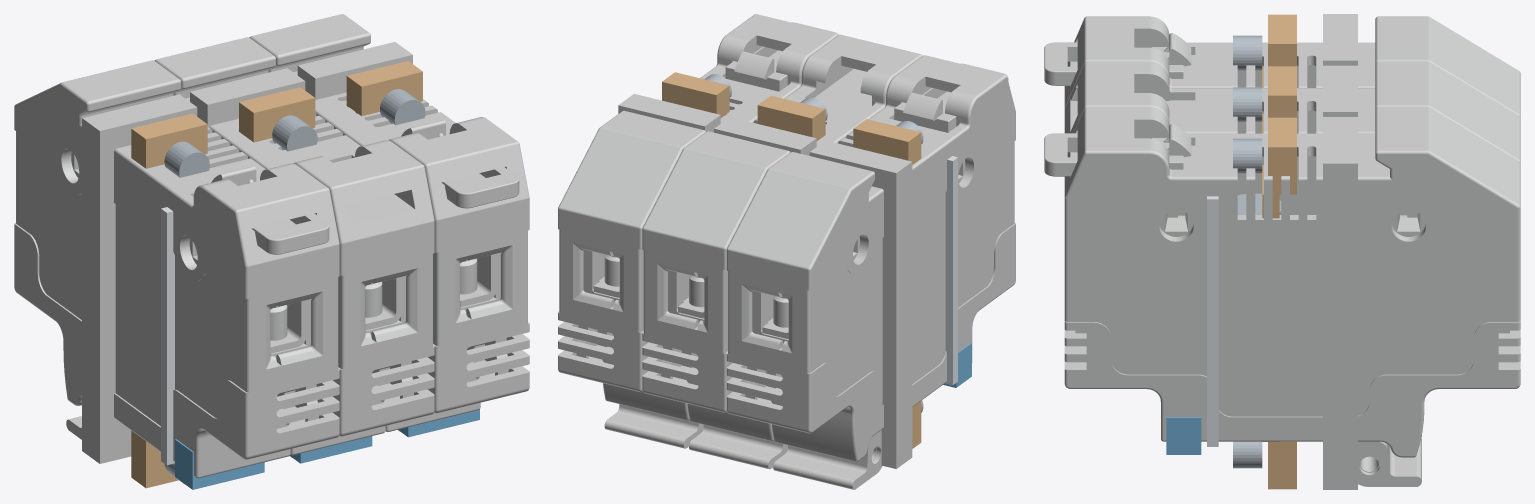
The picture shows the model from 3 angles, left to right: view 1: azimuth 30°, elevation 25°; view 2: azimuth 150°, elevation 25°; view 3: azimuth 270°, elevation 25°; orthographic projection. The views are drawn at different scales.
Parts seen in each view (by area): view 1: factory_034, factory_017, factory_032, factory_001, housing_000, factory_019, factory_003, carrier_001, housing_013, housing_026, terminals_024, terminals_037 (+16 smaller); view 2: factory_034, factory_017, factory_032, factory_001, housing_000, factory_019, factory_003, factory_033, carrier_001, factory_002, factory_018, terminals_011 (+10 smaller); view 3: factory_001, factory_017, factory_032, housing_026, factory_003, factory_019, factory_034, carrier_027, factory_002, factory_035, factory_004, terminals_037 (+10 smaller).
Boxes of the visible parts, left/top/right/bottom form: factory_034: left=14, top=80, right=277, bottom=478; factory_017: left=166, top=37, right=434, bottom=452; factory_032: left=71, top=60, right=339, bottom=476; factory_001: left=261, top=14, right=529, bottom=429; housing_000: left=82, top=94, right=197, bottom=463; factory_019: left=154, top=57, right=372, bottom=455; factory_003: left=249, top=34, right=467, bottom=431; carrier_001: left=161, top=207, right=174, bottom=465; housing_013: left=190, top=68, right=305, bottom=127; housing_026: left=297, top=42, right=412, bottom=99; terminals_024: left=239, top=87, right=315, bottom=142; terminals_037: left=346, top=61, right=422, bottom=116; factory_034: left=781, top=73, right=1015, bottom=461; factory_017: left=642, top=34, right=912, bottom=439; factory_032: left=726, top=55, right=996, bottom=459; factory_001: left=558, top=14, right=828, bottom=418; housing_000: left=809, top=140, right=912, bottom=468; factory_019: left=697, top=52, right=922, bottom=441; factory_003: left=612, top=32, right=838, bottom=420; factory_033: left=773, top=430, right=882, bottom=489; carrier_001: left=945, top=156, right=957, bottom=385; factory_002: left=604, top=404, right=703, bottom=448; factory_018: left=689, top=425, right=787, bottom=469; terminals_011: left=853, top=119, right=921, bottom=164; factory_001: left=1064, top=111, right=1520, bottom=457; factory_017: left=1064, top=66, right=1520, bottom=163; factory_032: left=1064, top=20, right=1520, bottom=117; housing_026: left=1323, top=117, right=1357, bottom=489; factory_003: left=1074, top=107, right=1520, bottom=346; factory_019: left=1064, top=62, right=1520, bottom=133; factory_034: left=1074, top=16, right=1520, bottom=87; carrier_027: left=1207, top=196, right=1218, bottom=446; factory_002: left=1358, top=437, right=1421, bottom=486; factory_035: left=1044, top=33, right=1191, bottom=85; factory_004: left=1044, top=123, right=1191, bottom=176; terminals_037: left=1268, top=117, right=1296, bottom=194.
Size of the model in its own units: 0.061 by 0.065 by 0.082.
